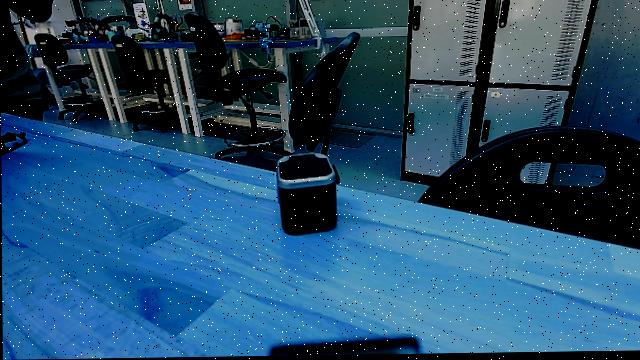adapter: (270, 147, 338, 246)
